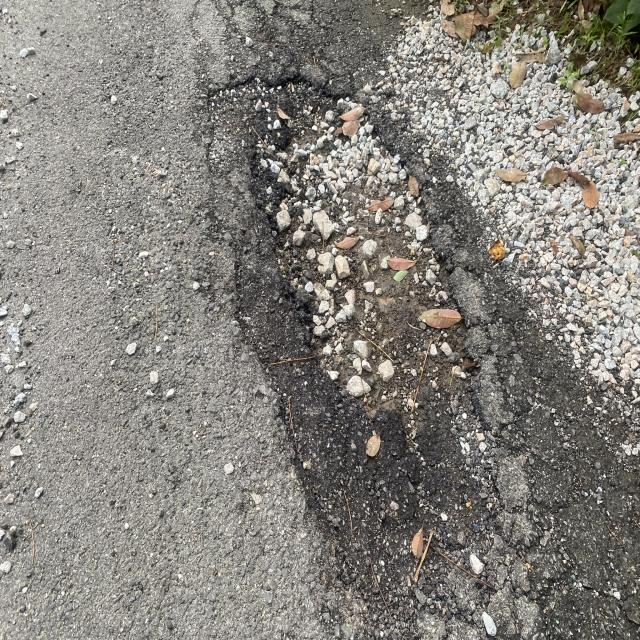pothole: (163, 28, 504, 551)
